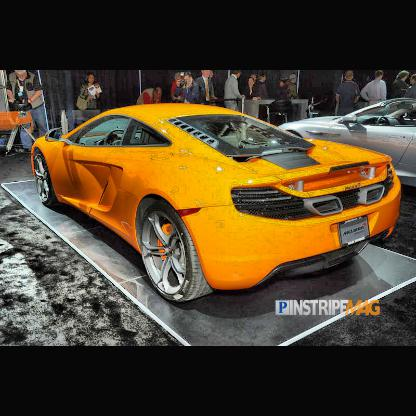McLaren MP4-12C Coupe 2012: (32, 104, 402, 307)
